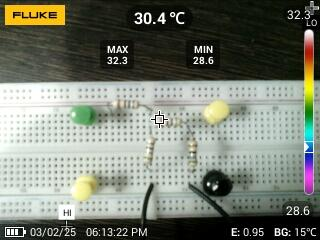resistor: (184, 137, 201, 170), (142, 135, 157, 172), (109, 96, 141, 112), (154, 115, 185, 128)
